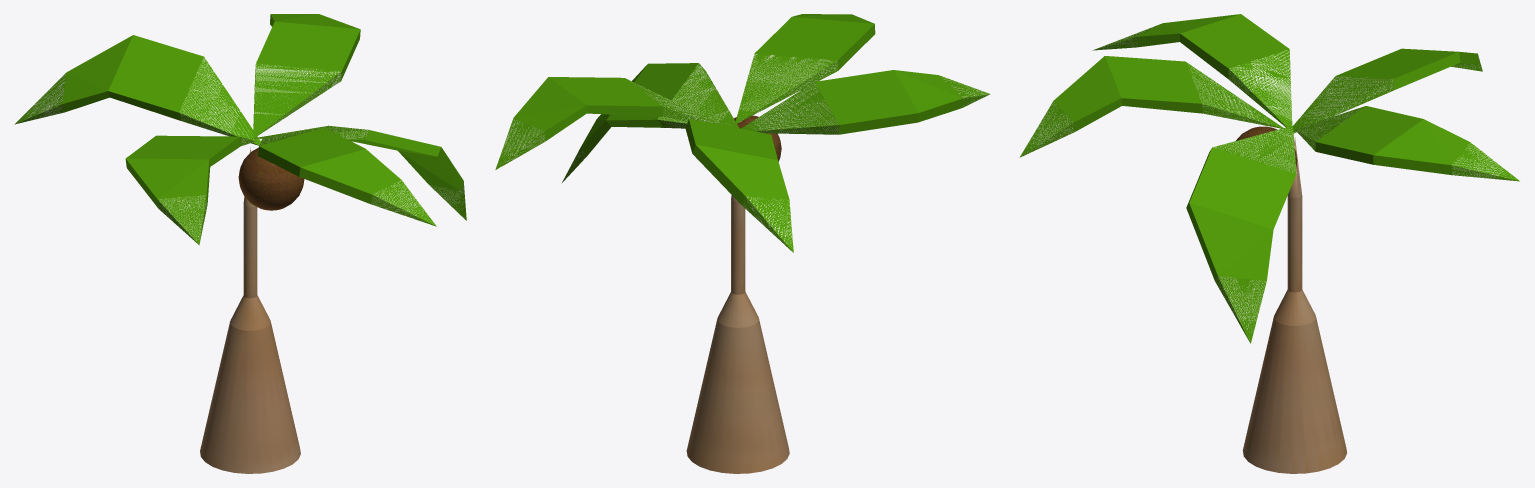
File: palm tree.dae
The picture shows the model from 3 angles, left to right: view 1: azimuth 30°, elevation 25°; view 2: azimuth 150°, elevation 25°; view 3: azimuth 270°, elevation 25°; orthographic projection. The views are drawn at different scales.
Parts seen in each view (by area): view 1: Leaf (×5), SketchUp (×2); view 2: Leaf (×5), SketchUp; view 3: Leaf (×5), SketchUp.
Boxes of the visible parts, box(x1,y1,x2,y2) form: Leaf (×5): box(14, 14, 466, 244); SketchUp (×2): box(200, 147, 304, 473); Leaf (×5): box(495, 14, 990, 252); SketchUp: box(686, 195, 789, 473); Leaf (×5): box(1019, 14, 1519, 343); SketchUp: box(1242, 137, 1346, 473).
Bounding box in the file's own units: 9.91 × 11.84 × 9.93.
